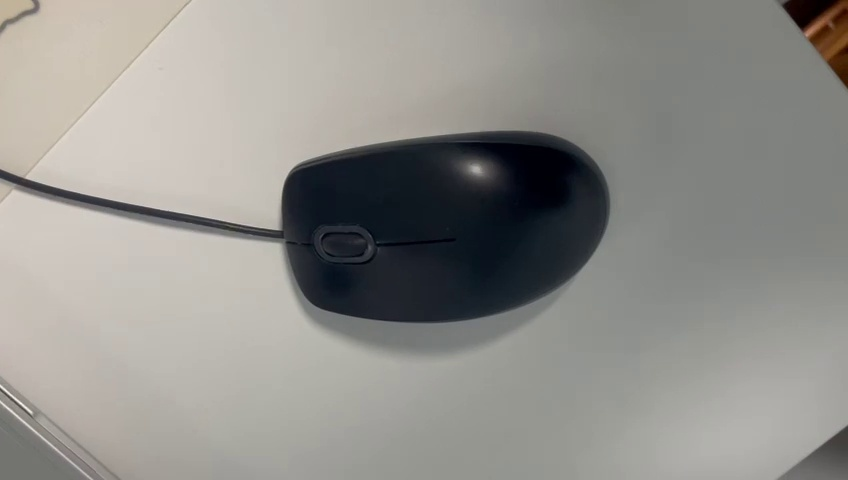objeto: (257, 120, 640, 329)
